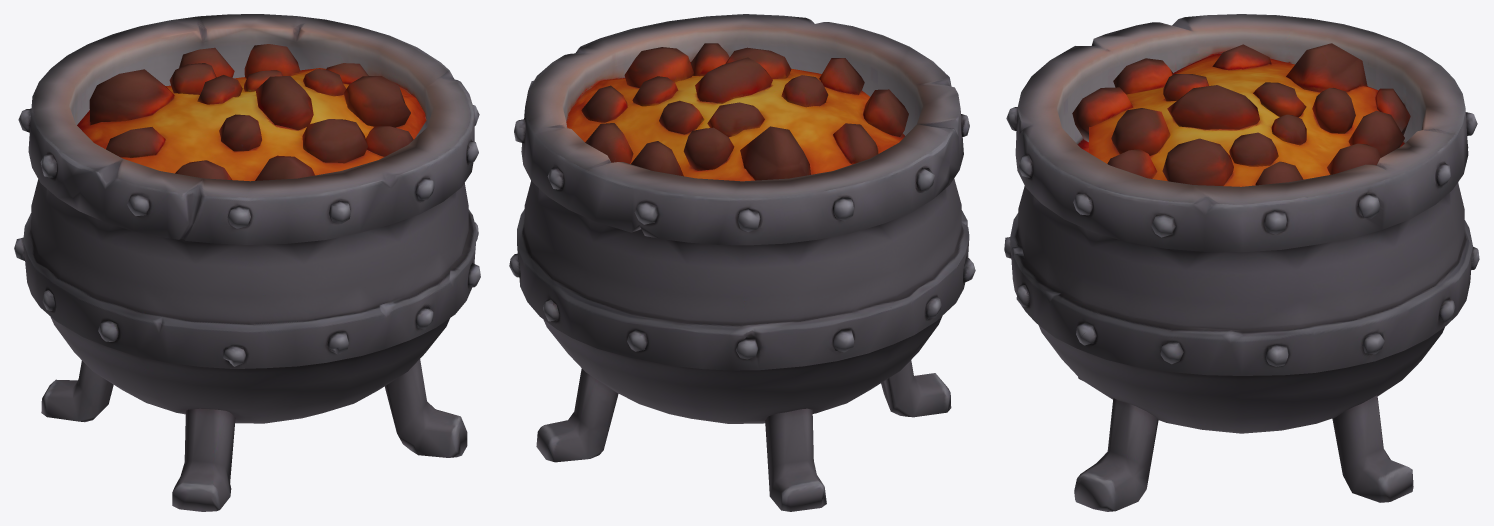
File: addon_brazier_tripo.glb
3 views of the same model, side by side, from view 1: azimuth 30°, elevation 25°; view 2: azimuth 150°, elevation 25°; view 3: azimuth 270°, elevation 25° (orthographic). The views are drawn at different scales.
Parts seen in each view (by area): view 1: tripo_node_37fb7fb3-9210-4e29-b941-239ef1384492; view 2: tripo_node_37fb7fb3-9210-4e29-b941-239ef1384492; view 3: tripo_node_37fb7fb3-9210-4e29-b941-239ef1384492.
Part boxes in pixels (x1,y1,x2,y2): tripo_node_37fb7fb3-9210-4e29-b941-239ef1384492: [14, 14, 480, 511]; tripo_node_37fb7fb3-9210-4e29-b941-239ef1384492: [509, 14, 975, 511]; tripo_node_37fb7fb3-9210-4e29-b941-239ef1384492: [1004, 14, 1479, 511].
Size of the model in its own units: 0.998 by 0.8379 by 0.998.
1 material, 1 textured.
